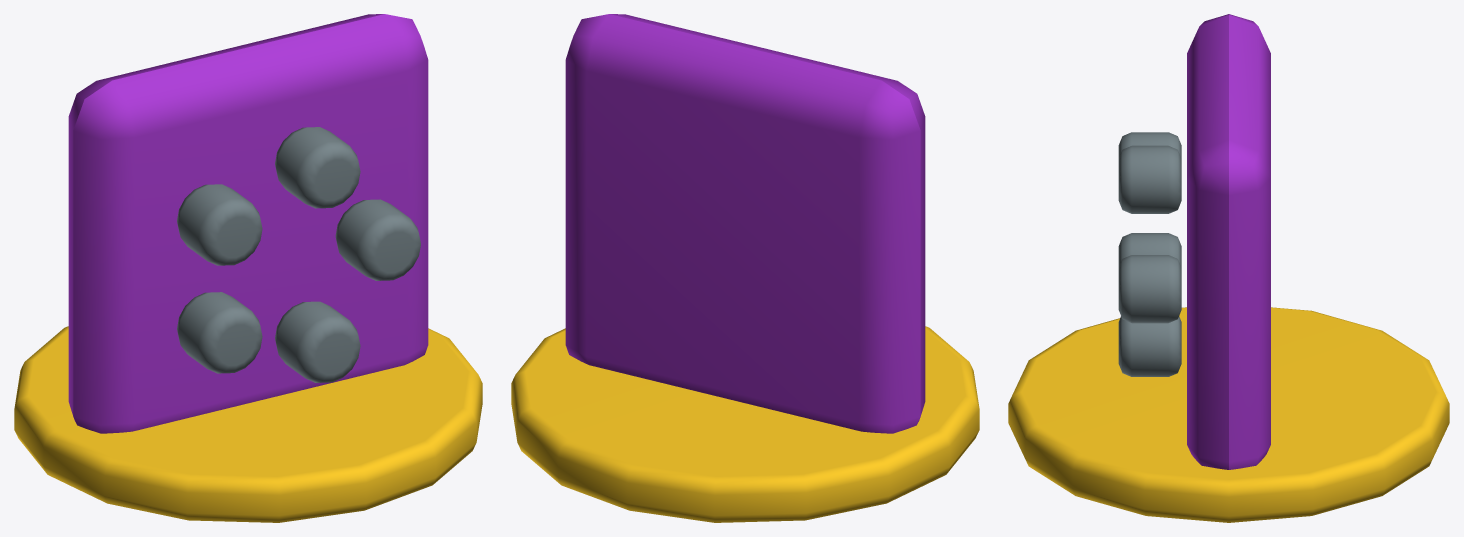
File: COM-POWER-04.glb
3 renders of one model, left to right at view 1: azimuth 30°, elevation 25°; view 2: azimuth 150°, elevation 25°; view 3: azimuth 270°, elevation 25°, orthographic. The views are drawn at different scales.
Parts seen in each view (by area): view 1: rounded badge, base ring, barrel cluster.002, barrel cluster.003, barrel cluster, barrel cluster.004, barrel cluster.001; view 2: rounded badge, base ring; view 3: base ring, rounded badge, barrel cluster.001, barrel cluster, barrel cluster.004, barrel cluster.003, barrel cluster.002.
Part boxes in pixels (bbox=[...]): rounded badge: bbox=[68, 14, 428, 433]; base ring: bbox=[14, 326, 482, 522]; barrel cluster.002: bbox=[177, 184, 262, 265]; barrel cluster.003: bbox=[177, 292, 262, 373]; barrel cluster: bbox=[335, 199, 420, 280]; barrel cluster.004: bbox=[275, 301, 360, 382]; barrel cluster.001: bbox=[275, 127, 360, 208]; rounded badge: bbox=[565, 14, 925, 433]; base ring: bbox=[511, 326, 979, 522]; base ring: bbox=[1008, 307, 1449, 522]; rounded badge: bbox=[1187, 14, 1270, 469]; barrel cluster.001: bbox=[1118, 145, 1181, 213]; barrel cluster: bbox=[1118, 255, 1181, 323]; barrel cluster.004: bbox=[1118, 316, 1181, 376]; barrel cluster.003: bbox=[1118, 233, 1181, 267]; barrel cluster.002: bbox=[1118, 132, 1181, 158].
Bounding box in the file's own units: 0.84 × 0.75 × 0.84.
